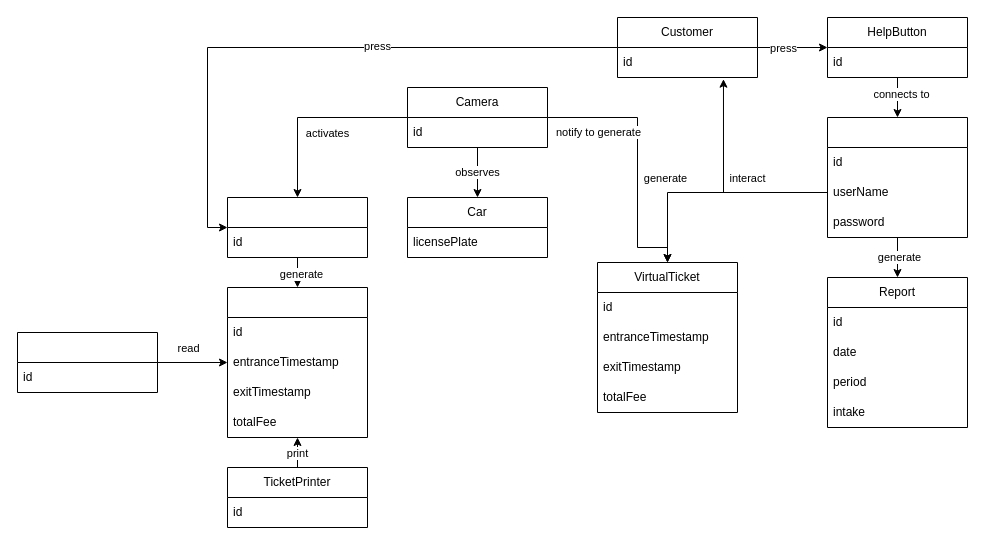
The diagram is 985 pixels wide and 545 high, and some of its shapes have lost their labels. Each missing label, with the box of its shape:
Admin: (826, 116, 968, 238)
Ticket: (226, 286, 368, 438)
TicketButton: (226, 196, 368, 258)
TicketReader: (16, 332, 158, 392)
